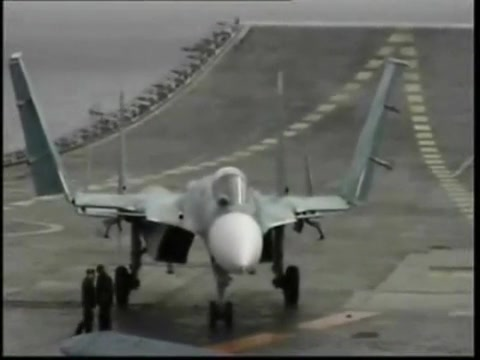aeroplane: (10, 51, 400, 342)
